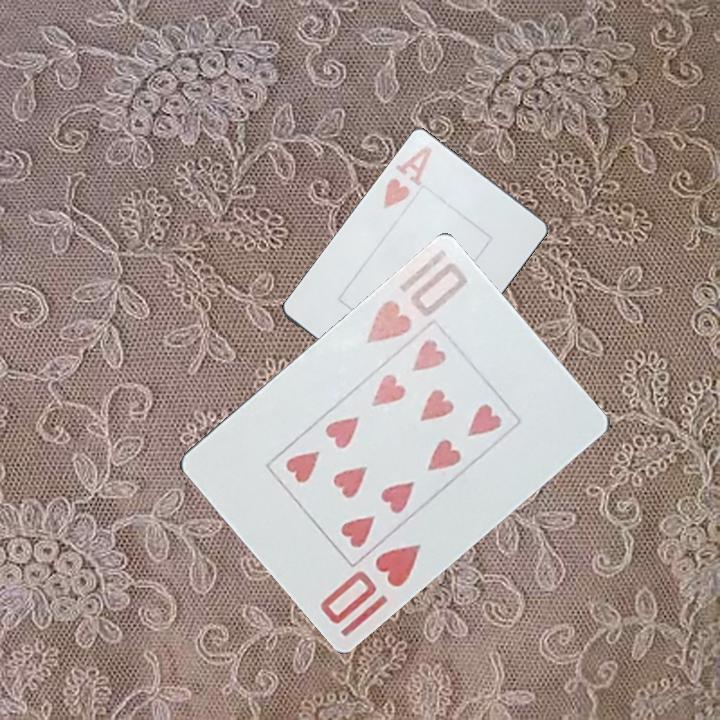Ah: (380, 142, 435, 212)
Th: (362, 246, 472, 349), (316, 541, 425, 628)
